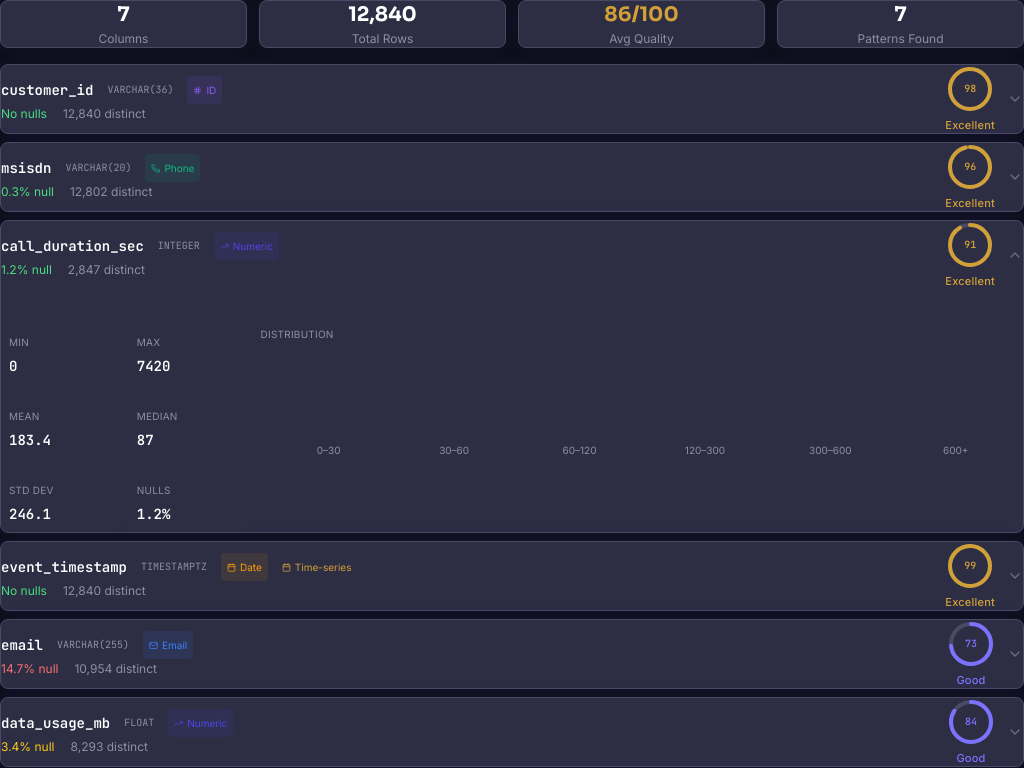
ProfilerPanel (integration) › expands a collapsed column on click
First collapse the default
Click the button "call_duration_sec".
click(72, 246)  # box [1,221,1023,289]
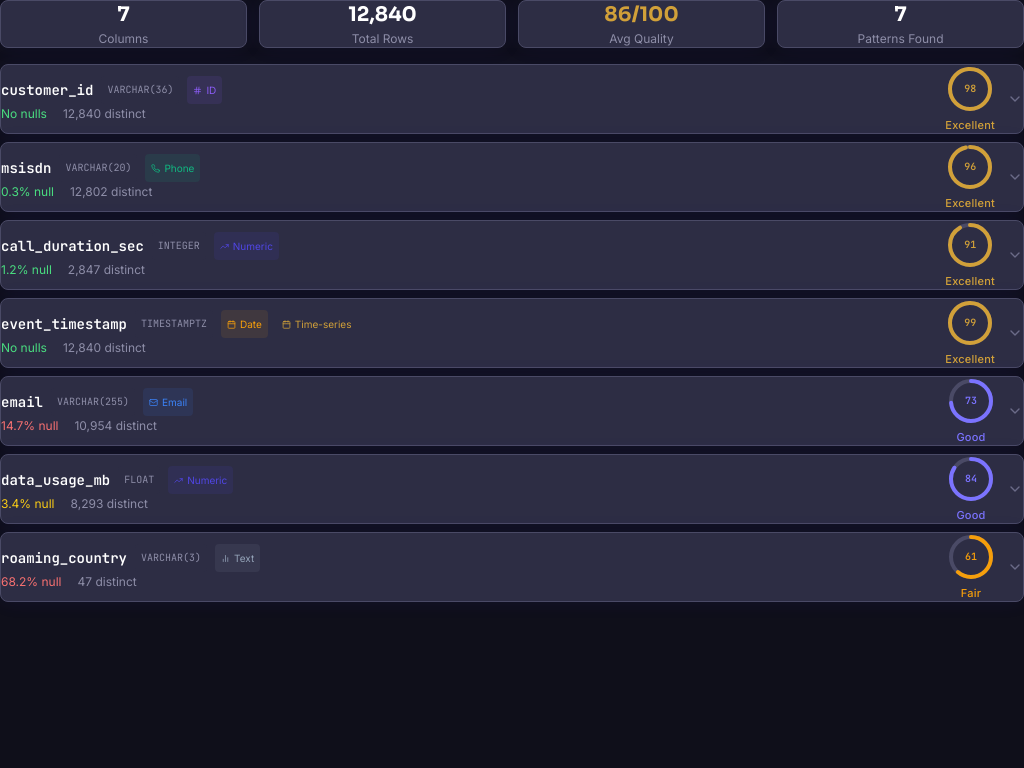
Now expand customer_id
Click the button "customer_id".
click(47, 90)  # box [1,65,1023,133]
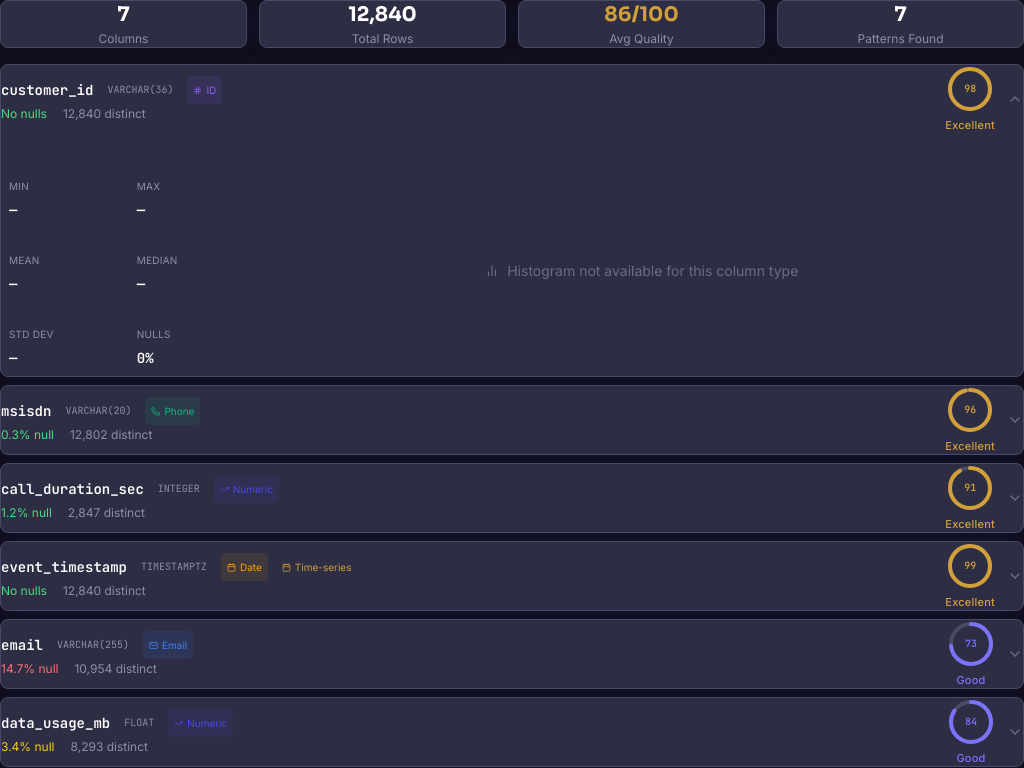
Result: the text "Min" is shown at [9,180,29,192]
